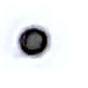cancer: (2, 12, 67, 72)
